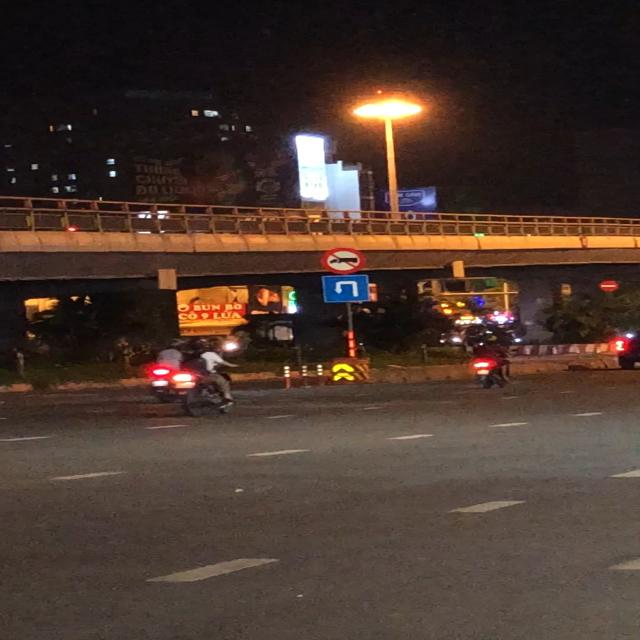Bien bao cam xe so-mi ro-mooc: (319, 247, 365, 276)
